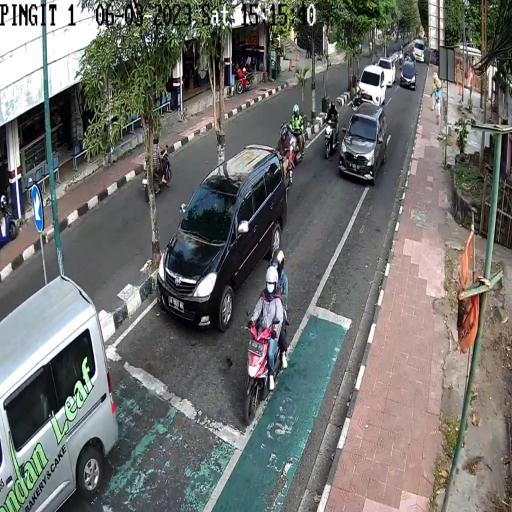mobil: (158, 148, 286, 324), (340, 101, 387, 186), (356, 62, 387, 107), (399, 61, 419, 91), (377, 56, 396, 86)
motor: (240, 316, 292, 418), (141, 146, 174, 202), (324, 117, 341, 162), (289, 128, 305, 164)
